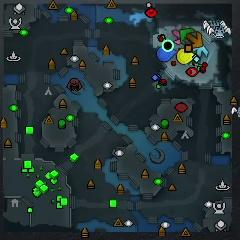p1: (156, 48, 178, 62)
p2Clone: (162, 38, 175, 53)
p4: (177, 49, 196, 64)
x1: (172, 29, 184, 44)
x3: (194, 45, 209, 61)
x4: (180, 28, 195, 41)
x5: (188, 31, 202, 44)
